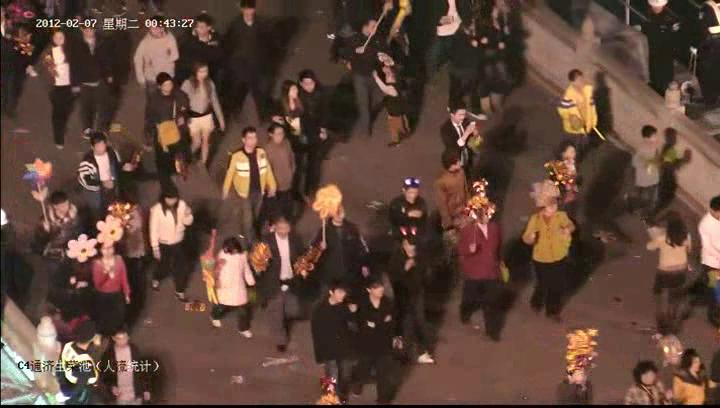person: (392, 185, 445, 367), (461, 196, 516, 345), (350, 279, 407, 404), (255, 213, 303, 355), (143, 181, 196, 302), (397, 232, 442, 368), (228, 0, 277, 124), (647, 211, 695, 333), (316, 283, 363, 403), (146, 71, 191, 195), (312, 279, 356, 405), (530, 199, 574, 323), (73, 16, 120, 132), (360, 276, 401, 407), (38, 31, 83, 150), (474, 0, 518, 121), (206, 237, 256, 342), (76, 131, 140, 212), (230, 125, 274, 240), (185, 63, 227, 181), (297, 63, 336, 190), (636, 2, 686, 99), (560, 68, 604, 172), (621, 121, 665, 225), (351, 20, 389, 140), (264, 125, 310, 219), (101, 325, 154, 404), (89, 243, 134, 332), (64, 320, 102, 408), (134, 17, 184, 81), (379, 65, 416, 149), (434, 2, 476, 74), (434, 155, 471, 232), (441, 96, 480, 161), (36, 191, 81, 247), (673, 350, 715, 408), (188, 14, 226, 75), (625, 362, 674, 408), (557, 358, 599, 408), (274, 79, 305, 131)
